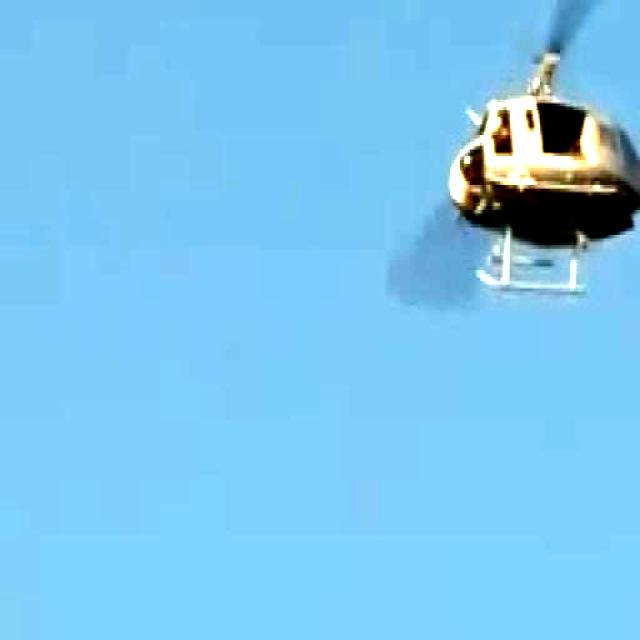drone: (439, 45, 640, 300)
